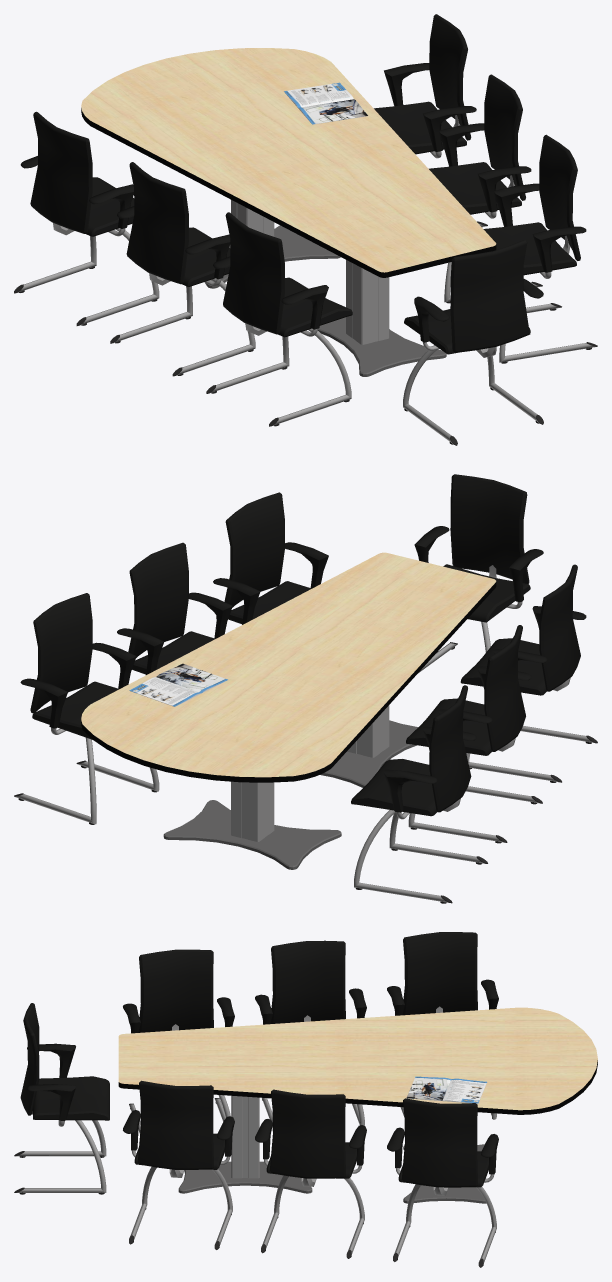
3 renders of one model, top to bottom at view 1: azimuth 30°, elevation 25°; view 2: azimuth 150°, elevation 25°; view 3: azimuth 270°, elevation 25°, orthographic. The views are drawn at different scales.
Parts seen in each view (by area): view 1: CGM_Meeting_and_Conference_desk_Topboard_U-x7 (×2), HÅG_Backrest (×7), HÅG_Seat (×7), HÅG_Armrest (×10), HÅG_Leg (×8), CGM_Base_table_Pillar_Foot_5 (×2), CGM_Base_table_Pillar (×2), CGM_Tabletop_Components_Brochure_s_12-14 (×2); view 2: CGM_Meeting_and_Conference_desk_Topboard_U-x7 (×2), HÅG_Backrest (×7), HÅG_Seat (×7), HÅG_Armrest (×9), CGM_Base_table_Pillar_Foot_5 (×2), HÅG_Leg (×6), CGM_Base_table_Pillar (×2), CGM_Tabletop_Components_Brochure_s_12-14 (×2); view 3: HÅG_Backrest (×7), CGM_Meeting_and_Conference_desk_Topboard_U-x7 (×2), CGM_Base_table_Pillar_Foot_5 (×2), HÅG_Seat, CGM_Base_table_Pillar, HÅG_Leg (×3), CGM_Tabletop_Components_Brochure_s_12-14 (×2), HÅG_Armrest (×2).
Part boxes in pixels (x1,y1,x2,y2): CGM_Meeting_and_Conference_desk_Topboard_U-x7 (×2): (81,48,496,277); HÅG_Backrest (×7): (30,14,580,352); HÅG_Seat (×7): (86,101,576,354); HÅG_Armrest (×10): (89,63,586,342); HÅG_Leg (×8): (17,228,595,444); CGM_Base_table_Pillar_Foot_5 (×2): (205,225,446,376); CGM_Base_table_Pillar (×2): (231,200,389,344); CGM_Tabletop_Components_Brochure_s_12-14 (×2): (284,82,367,124); CGM_Meeting_and_Conference_desk_Topboard_U-x7 (×2): (81,552,496,782); HÅG_Backrest (×7): (30,474,580,812); HÅG_Seat (×7): (32,564,546,816); HÅG_Armrest (×9): (20,526,543,812); CGM_Base_table_Pillar_Foot_5 (×2): (163,720,418,869); HÅG_Leg (×6): (14,737,558,902); CGM_Base_table_Pillar (×2): (231,705,389,841); CGM_Tabletop_Components_Brochure_s_12-14 (×2): (129,663,227,706); HÅG_Backrest (×7): (20,932,477,1187); CGM_Meeting_and_Conference_desk_Topboard_U-x7 (×2): (118,1007,597,1114); CGM_Base_table_Pillar_Foot_5 (×2): (178,1144,486,1203); HÅG_Seat: (33,1076,109,1120); CGM_Base_table_Pillar: (231,1095,259,1178); HÅG_Leg (×3): (16,1120,364,1253); CGM_Tabletop_Components_Brochure_s_12-14 (×2): (406,1076,486,1103); HÅG_Armrest (×2): (27,1043,76,1120).
Size of the model in its own units: 100 by 132 by 39.32.
9 materials, 3 textured.
